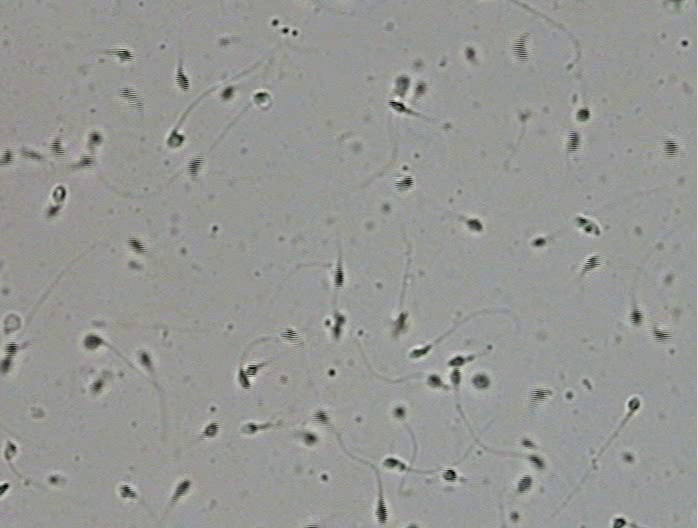S: (575, 216, 601, 236), (119, 88, 142, 107), (512, 37, 529, 62), (187, 156, 205, 177), (331, 314, 346, 338), (174, 479, 191, 500), (175, 69, 190, 92), (375, 498, 388, 524), (127, 237, 146, 254), (566, 130, 580, 153), (237, 368, 251, 390), (393, 312, 407, 334), (49, 138, 65, 157), (663, 140, 679, 159), (394, 76, 409, 96), (653, 327, 673, 342), (113, 48, 134, 62), (167, 132, 185, 148), (517, 475, 533, 493), (530, 388, 548, 404), (628, 309, 644, 327), (395, 176, 414, 191), (4, 440, 18, 460), (472, 374, 490, 389), (528, 454, 545, 469), (583, 256, 600, 271), (77, 155, 95, 169), (465, 218, 483, 232), (388, 99, 406, 113), (119, 485, 137, 498), (409, 347, 430, 358), (333, 267, 344, 288), (303, 431, 318, 446), (575, 108, 591, 122), (281, 328, 298, 341), (1, 148, 13, 166), (204, 423, 219, 437), (313, 410, 329, 423), (53, 186, 66, 202), (88, 131, 102, 145), (4, 342, 17, 357), (427, 375, 442, 388), (253, 92, 269, 104), (84, 335, 100, 347), (450, 368, 461, 385), (221, 86, 234, 100), (628, 397, 641, 411), (46, 205, 61, 217), (442, 469, 457, 481), (448, 356, 466, 366), (90, 379, 103, 392), (139, 352, 151, 366), (383, 456, 397, 468), (242, 422, 257, 433), (393, 406, 406, 418), (1, 358, 11, 373), (520, 439, 535, 449), (246, 364, 258, 376), (414, 82, 425, 95), (532, 237, 546, 247), (465, 47, 476, 59), (613, 518, 626, 528), (1, 482, 9, 495), (303, 524, 319, 528)
